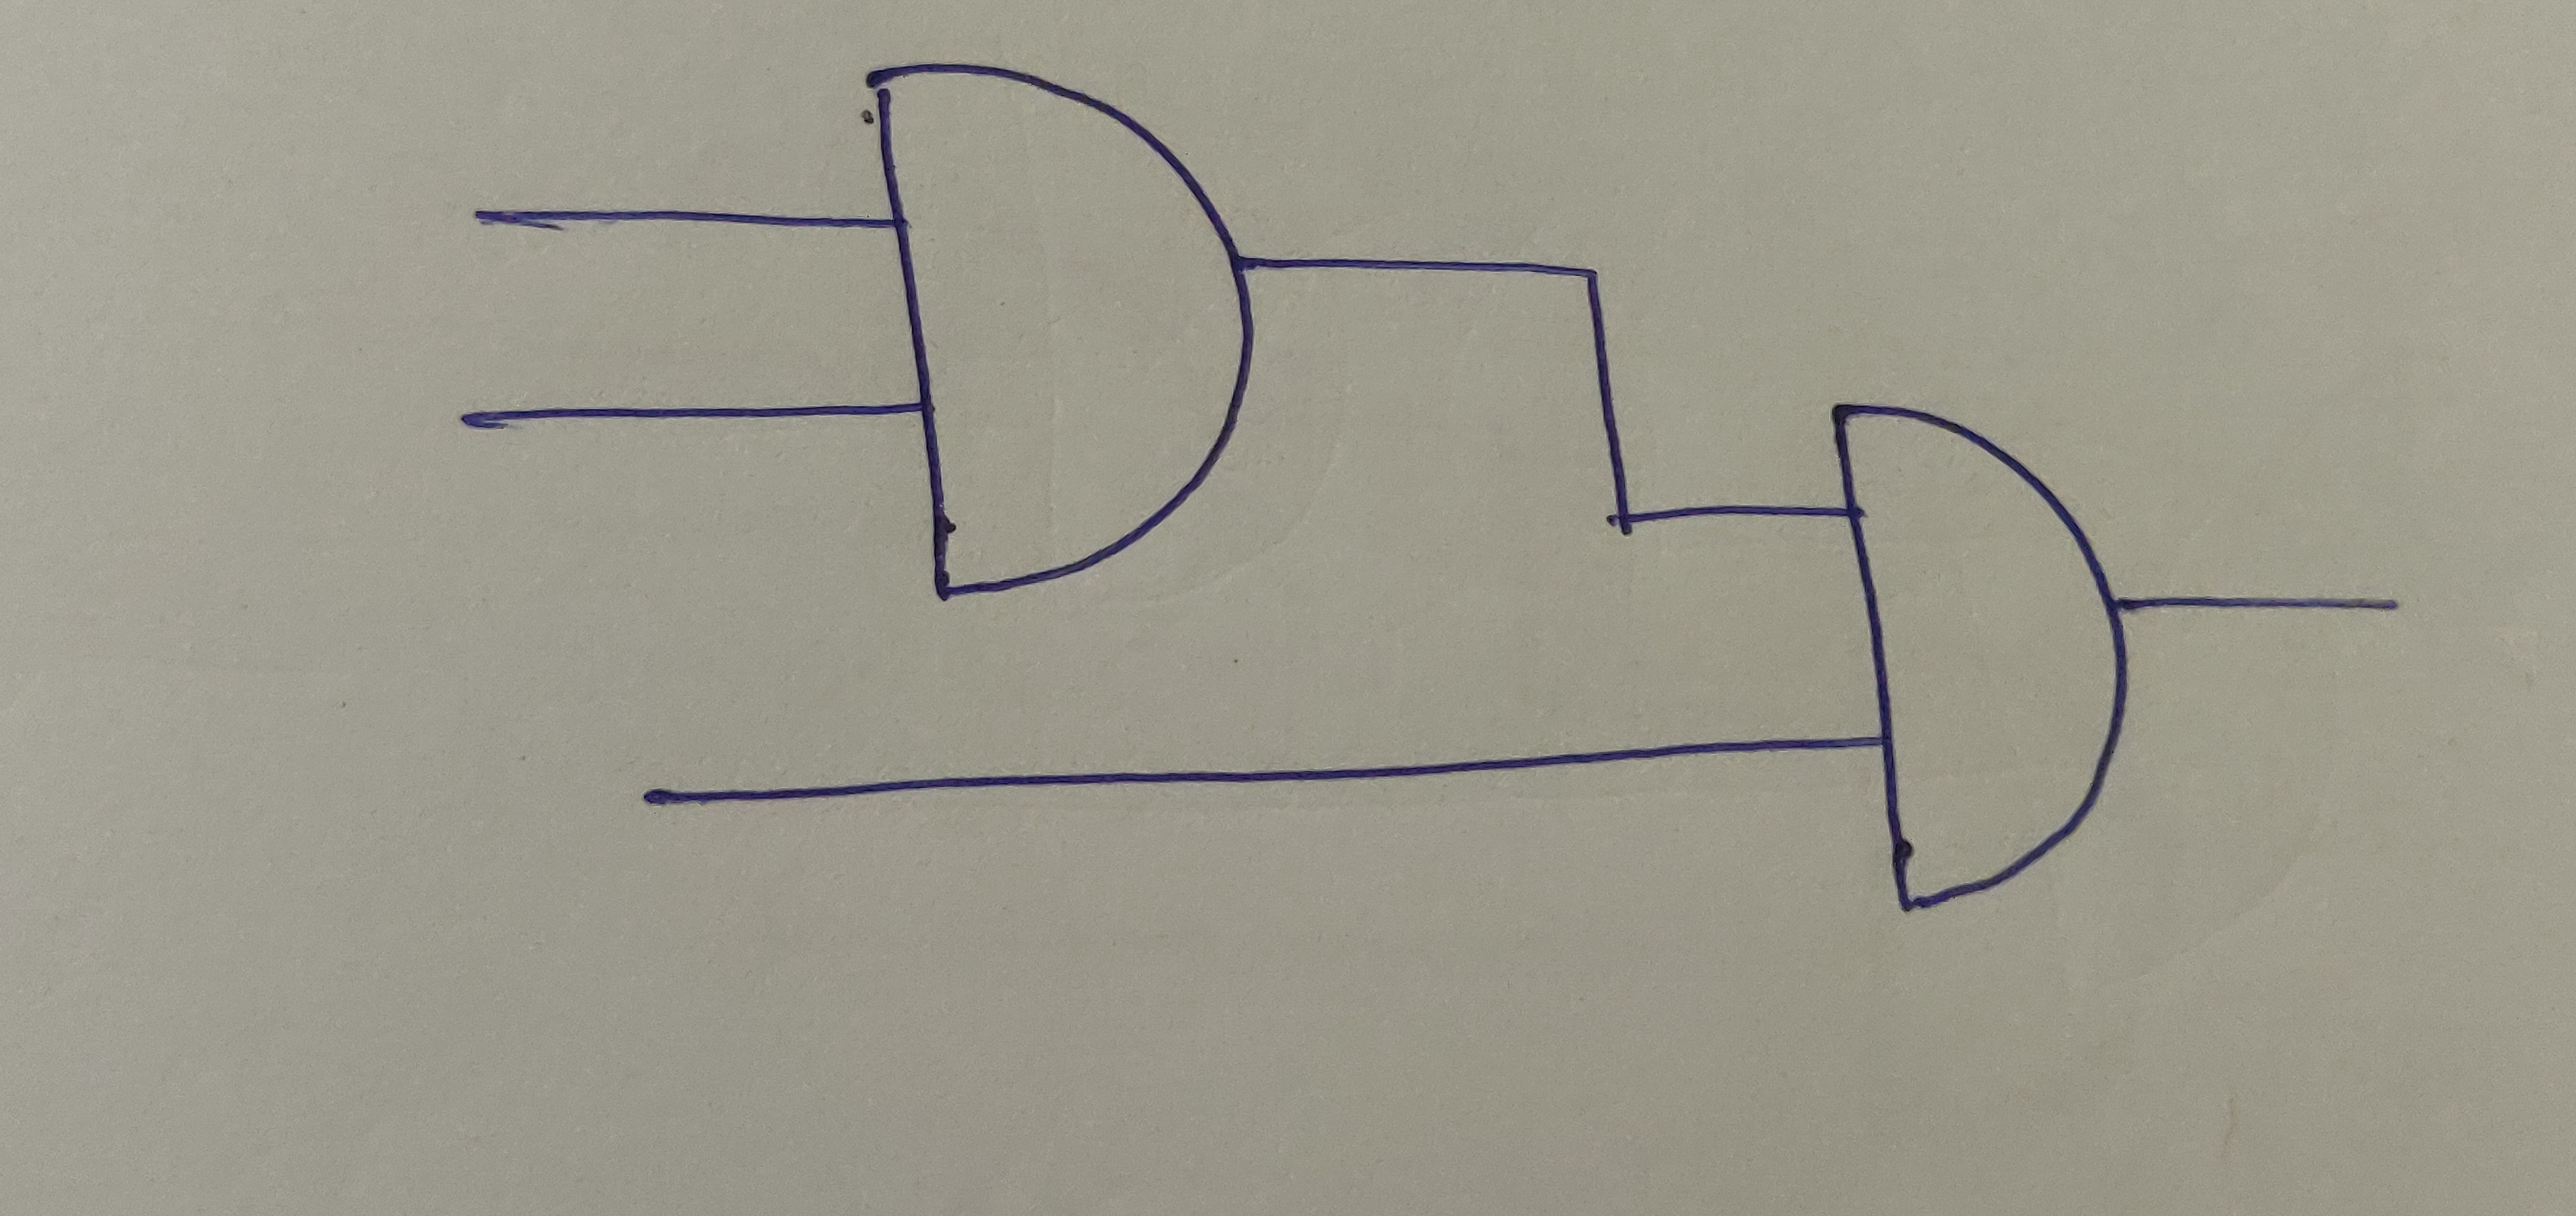and: (866, 59, 1252, 600), (1827, 394, 2124, 910)
